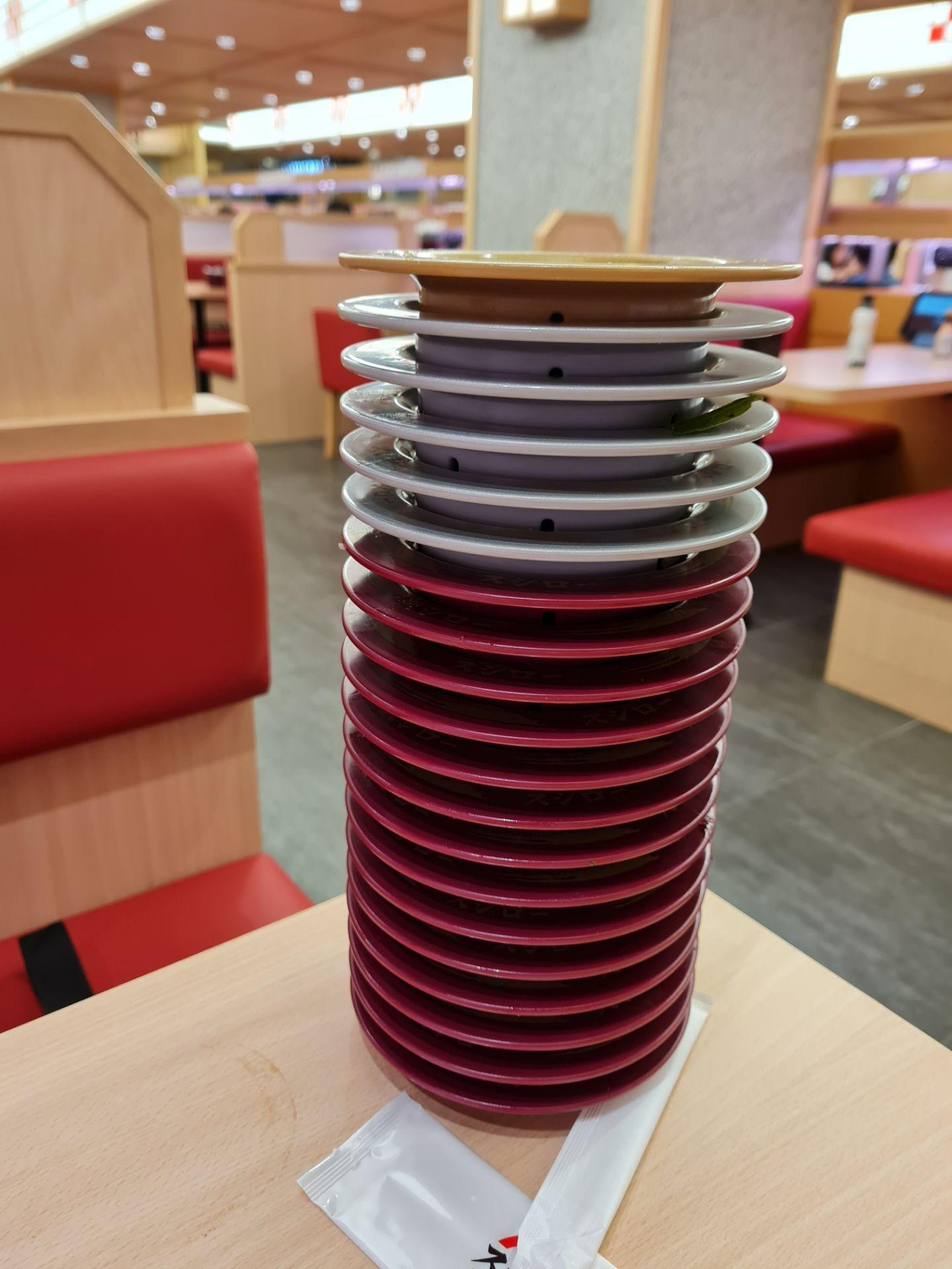Jangold: (329, 230, 802, 306)
Janred: (385, 567, 721, 613), (420, 672, 735, 708), (410, 630, 695, 663), (409, 806, 662, 835), (447, 923, 694, 948), (442, 726, 679, 751), (428, 760, 671, 784), (442, 957, 644, 983), (427, 882, 667, 903), (444, 998, 626, 1020), (452, 852, 650, 871), (451, 1064, 635, 1083), (456, 1096, 661, 1113), (438, 1031, 596, 1051)
Janwhite: (365, 359, 790, 410), (366, 316, 784, 360), (368, 418, 762, 461), (386, 511, 759, 552), (374, 465, 753, 504)
